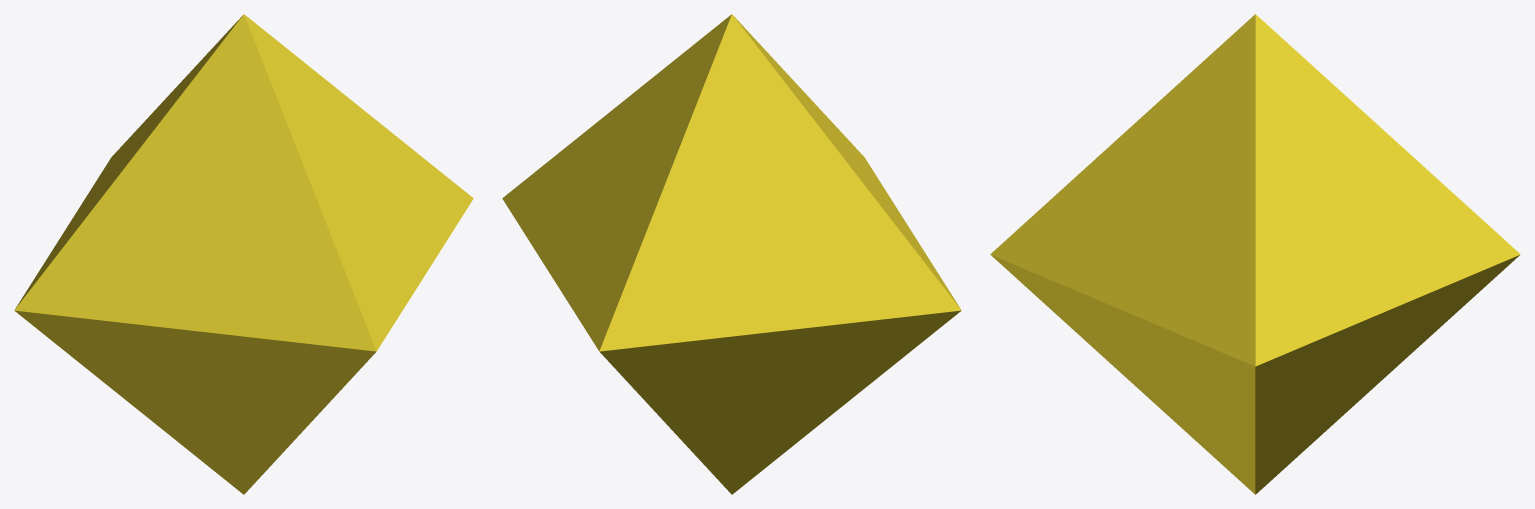
Rendered from Collectible.fbx.
3 views of the same model, side by side, from view 1: azimuth 30°, elevation 25°; view 2: azimuth 150°, elevation 25°; view 3: azimuth 270°, elevation 25° (orthographic).
Visible parts, largest first — view 1: Cube; view 2: Cube; view 3: Cube.
Part boxes in pixels (x1,y1,x2,y2): Cube: (14,14,473,494); Cube: (502,14,961,494); Cube: (990,14,1520,494).
Bounding box in the file's own units: 400 × 400 × 400.
